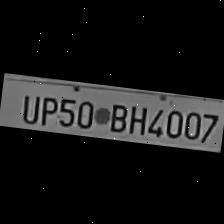0: (72, 96, 96, 129), (161, 104, 184, 138), (182, 106, 202, 142)
4: (144, 102, 165, 138)
5: (53, 93, 77, 126)
7: (196, 108, 218, 143)
B: (104, 98, 129, 132)
H: (126, 100, 147, 136)
P: (34, 92, 57, 126)
U: (14, 90, 40, 124)
